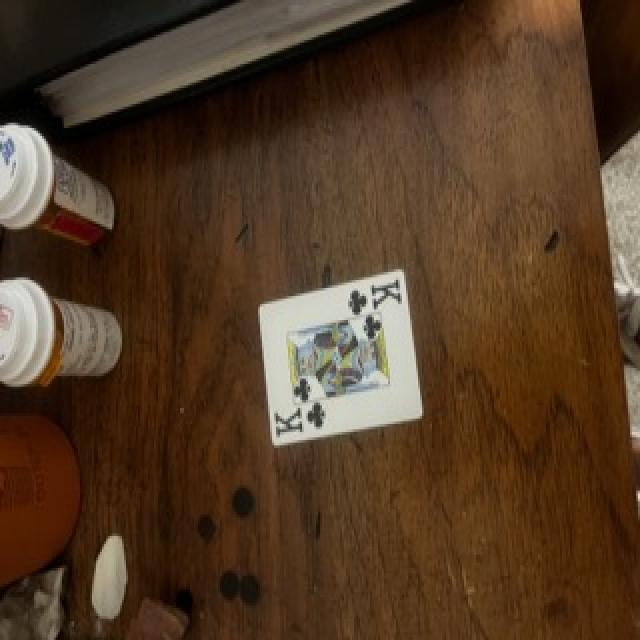King of clubs: (259, 270, 422, 445)
